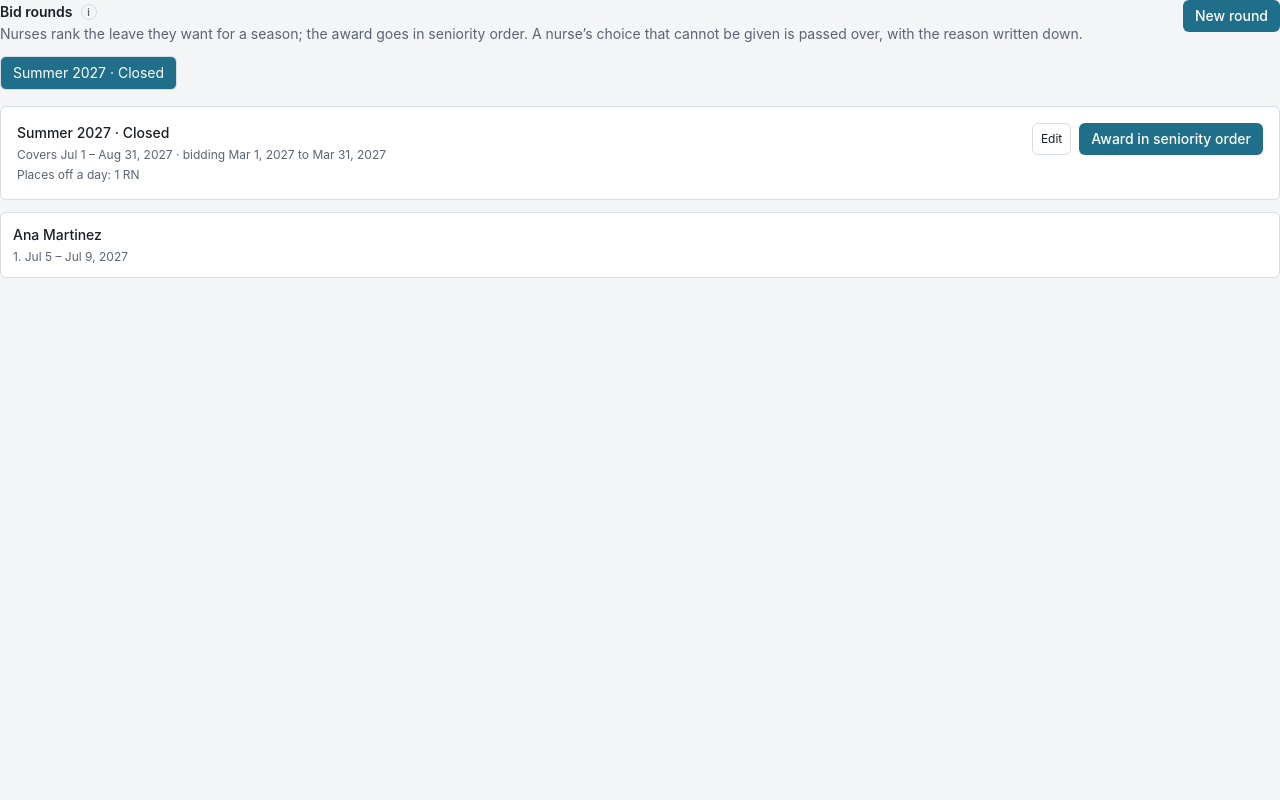
bidding for summer leave on the Requests page › awards only after the manager confirms, then shows each denial’s reason verbatim
Expected: the text "Ana Martinez" is shown, [13,226,102,243]
Click the button with test id "award-round". click: [1171, 139]
box: [1079,123,1263,155]
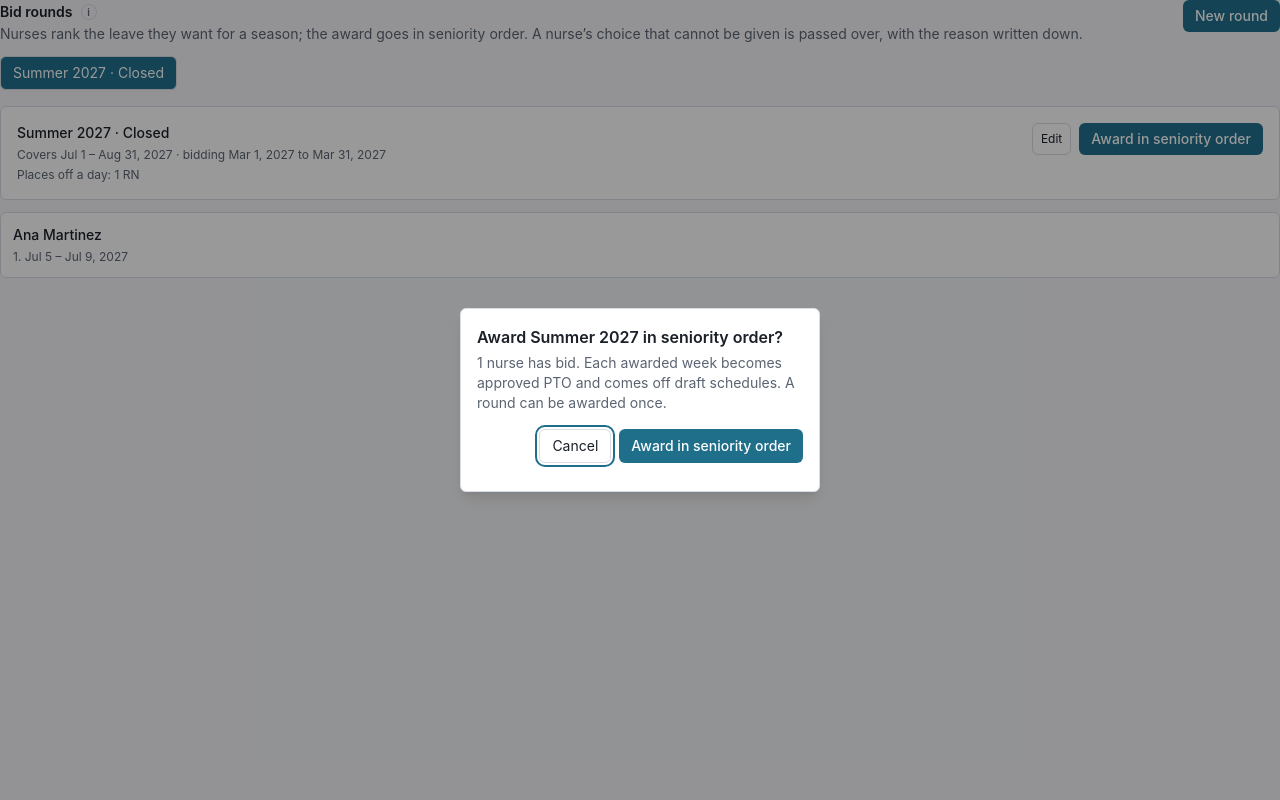
Click the button "Award in seniority order". click: [711, 446]
box: [619,429,803,463]
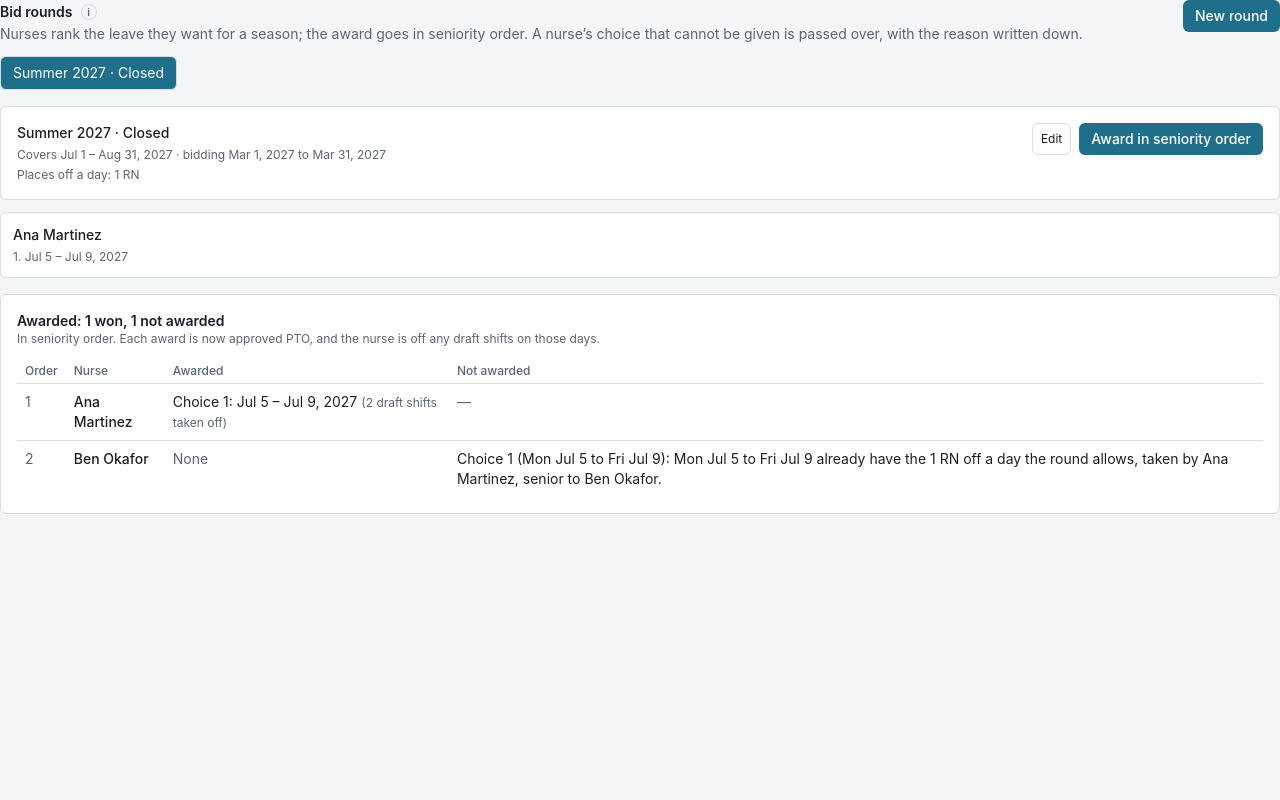
Expected: the heading "Awarded: 1 won, 1 not awarded" is shown, [17,312,225,329]
Expected: the text "(2 draft shifts taken off)" is shown, [173,395,437,430]
